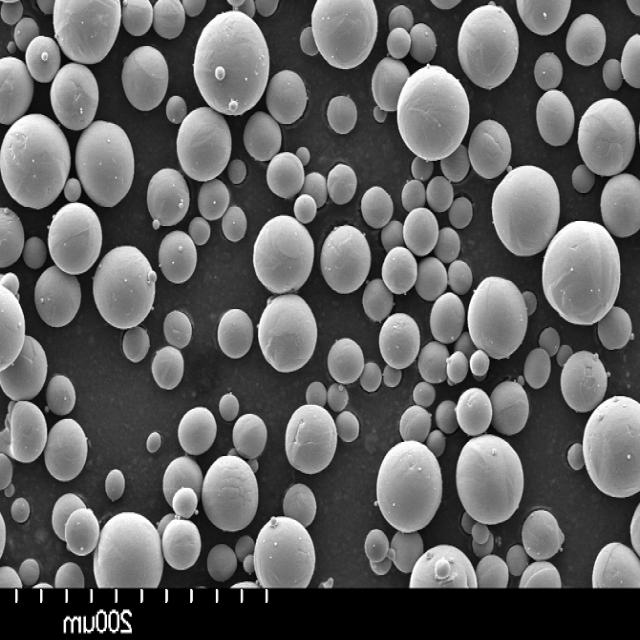cells: (539, 218, 624, 332), (190, 8, 273, 122), (395, 63, 472, 165), (490, 158, 564, 262), (0, 109, 74, 212), (374, 433, 442, 537), (454, 434, 526, 529), (462, 271, 530, 368), (581, 391, 640, 501), (89, 242, 158, 334), (74, 121, 139, 211), (454, 4, 519, 93), (309, 0, 382, 77), (575, 94, 638, 182), (250, 212, 317, 294), (93, 509, 162, 586), (256, 291, 316, 377), (197, 453, 260, 534), (43, 198, 106, 278), (172, 104, 234, 184), (280, 400, 340, 479), (255, 515, 318, 588), (52, 0, 121, 66), (119, 38, 172, 115), (318, 222, 370, 296), (556, 348, 611, 417), (41, 413, 90, 487), (49, 61, 99, 132), (407, 541, 481, 587), (32, 264, 83, 329), (467, 111, 514, 181), (143, 162, 192, 228), (517, 505, 570, 565), (0, 334, 47, 399), (5, 396, 48, 466), (378, 305, 422, 373), (532, 85, 576, 153), (263, 67, 308, 128), (561, 10, 606, 70), (157, 228, 200, 290), (600, 172, 640, 238), (370, 56, 415, 112), (174, 402, 218, 459), (1, 55, 34, 131), (216, 302, 255, 366), (427, 287, 466, 349), (0, 286, 25, 381), (23, 33, 63, 89), (230, 410, 270, 466), (486, 382, 529, 434), (591, 540, 639, 586), (242, 110, 283, 163), (454, 383, 492, 439), (325, 336, 364, 390), (380, 243, 417, 299), (266, 148, 304, 202), (152, 339, 188, 395), (357, 183, 398, 232), (162, 458, 202, 508), (514, 0, 571, 35), (324, 156, 360, 211), (162, 519, 200, 570), (387, 528, 428, 575), (358, 275, 398, 323), (0, 199, 25, 275), (403, 204, 438, 258), (597, 304, 634, 354), (63, 507, 99, 558), (51, 492, 85, 545), (324, 90, 360, 140), (194, 177, 232, 223), (282, 481, 318, 527), (413, 256, 447, 303), (416, 342, 452, 386), (118, 325, 155, 366), (520, 343, 550, 393), (438, 143, 471, 187), (396, 405, 432, 445), (206, 539, 239, 582), (43, 375, 78, 414), (532, 48, 564, 90), (163, 305, 192, 351), (153, 0, 185, 41), (409, 22, 438, 65), (121, 0, 153, 38), (426, 174, 454, 215), (220, 204, 247, 244), (102, 467, 130, 505), (468, 520, 497, 556), (435, 226, 462, 264), (21, 233, 48, 270), (363, 526, 389, 564), (385, 27, 413, 62), (334, 408, 362, 443), (400, 179, 426, 216), (434, 398, 461, 433), (171, 486, 196, 522), (51, 562, 87, 587), (504, 545, 531, 578), (447, 260, 473, 294), (448, 194, 472, 230), (536, 325, 562, 358), (386, 2, 414, 32), (360, 359, 383, 394), (600, 56, 624, 89), (445, 350, 467, 386), (217, 390, 240, 424), (565, 439, 585, 478), (16, 556, 42, 586), (14, 16, 36, 51), (411, 380, 436, 410), (297, 24, 319, 58), (326, 382, 350, 413), (163, 96, 186, 126), (470, 348, 491, 380), (226, 158, 249, 187), (571, 163, 592, 194), (58, 176, 84, 201), (410, 156, 436, 180), (304, 381, 327, 408), (144, 430, 164, 460), (380, 365, 402, 390), (12, 498, 30, 525), (556, 340, 571, 368)
